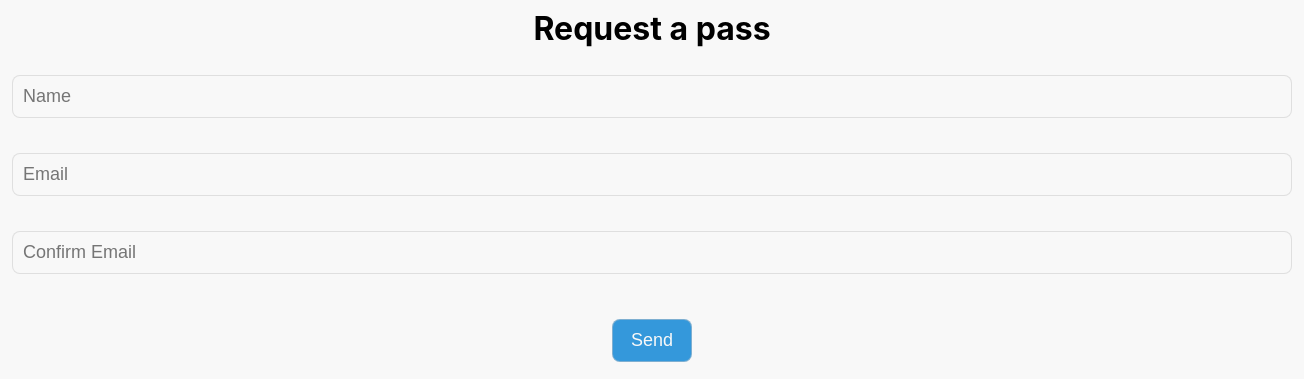
Test: RequestPassForm › Typing an invalid email formant on the email input field will result an error
Type "@.com" into the field labelled "Email" at (652, 174), box [12,153,1292,196]
Then press Enter
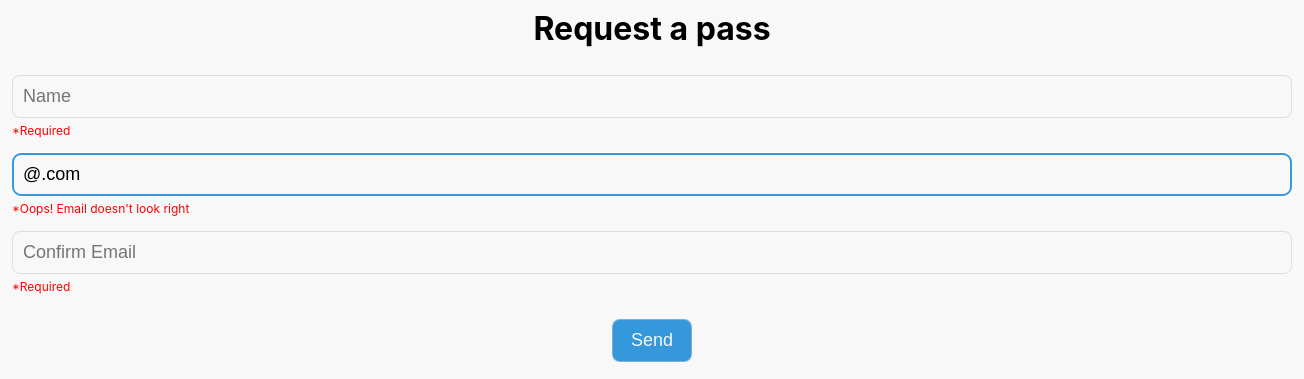
Expected: the text "*Oops! Email doesn't look right" is shown, [12,201,189,216]
